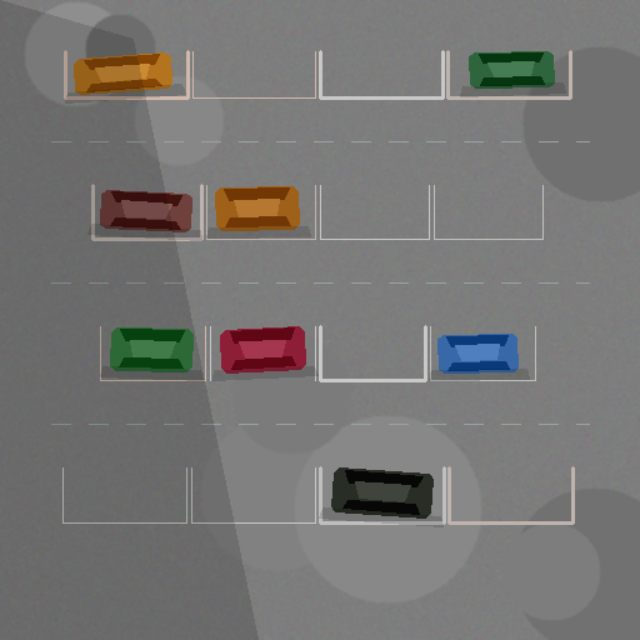space-empty: (191, 468, 315, 523), (449, 468, 573, 523), (63, 468, 186, 523), (320, 185, 429, 239), (434, 185, 542, 239), (192, 51, 315, 98), (320, 51, 442, 98), (320, 326, 425, 380)
space-occupied: (320, 468, 444, 523), (92, 185, 201, 239), (206, 185, 315, 239), (65, 51, 188, 98), (448, 51, 570, 98), (100, 326, 205, 380), (210, 326, 315, 380), (430, 326, 535, 380)
